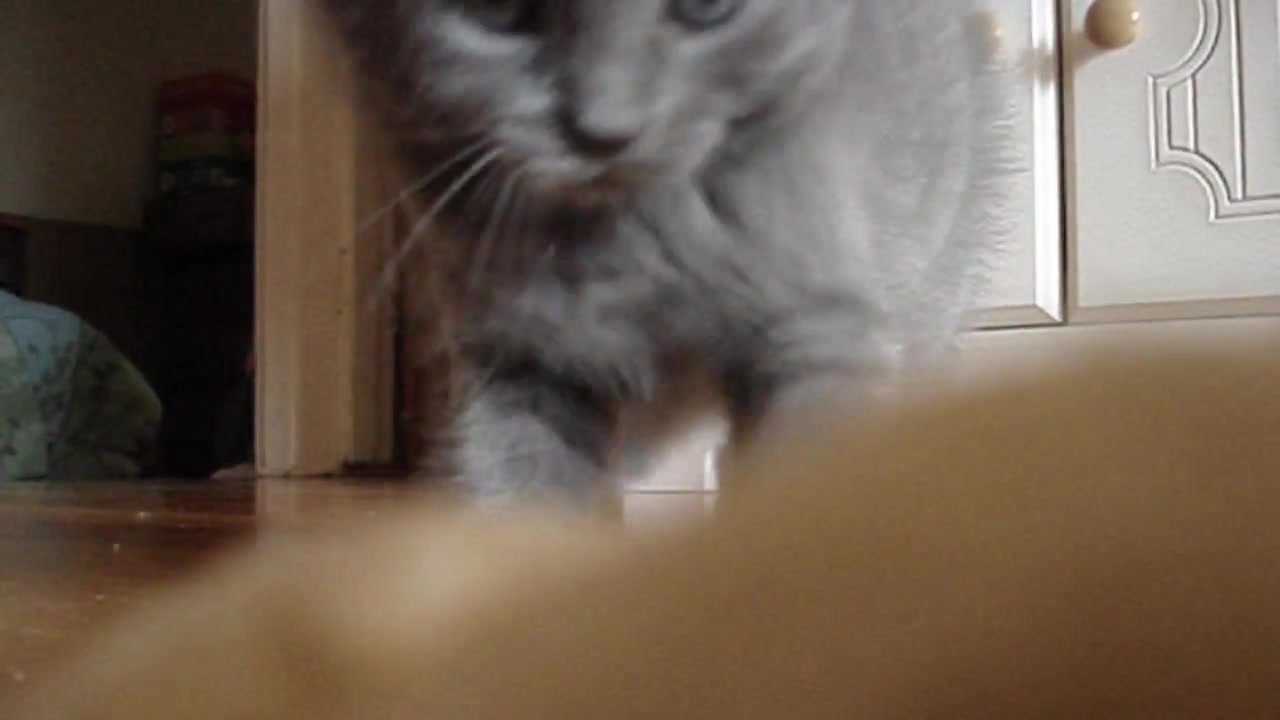cat: (319, 1, 1033, 502)
